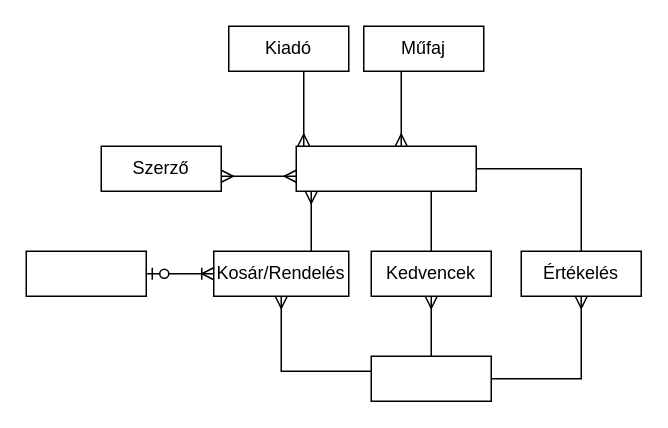
Some shapes in this 668 by 428 pixel diagram are drawn without their labels. Each missing label, with the box of its shape:
Felhasználó: (370, 355, 491, 401)
Könyv: (295, 145, 476, 191)
Üzlet: (25, 250, 146, 296)
